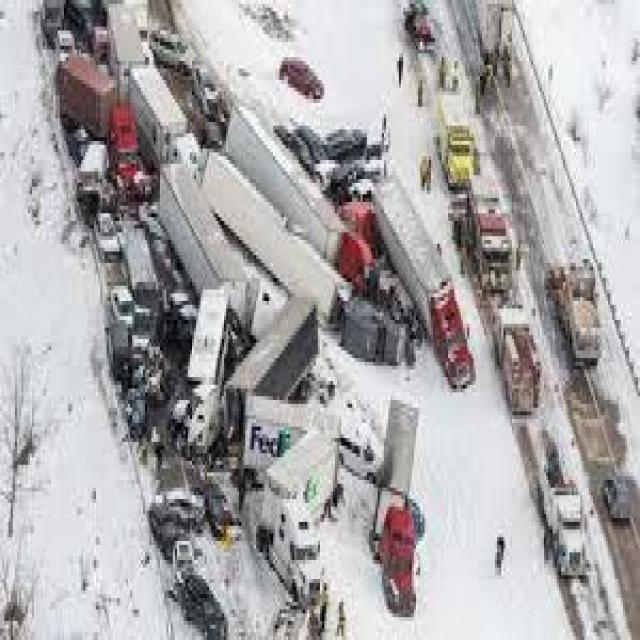Accident: (272, 118, 476, 389), (240, 381, 434, 640), (102, 276, 230, 471), (53, 49, 156, 263)
